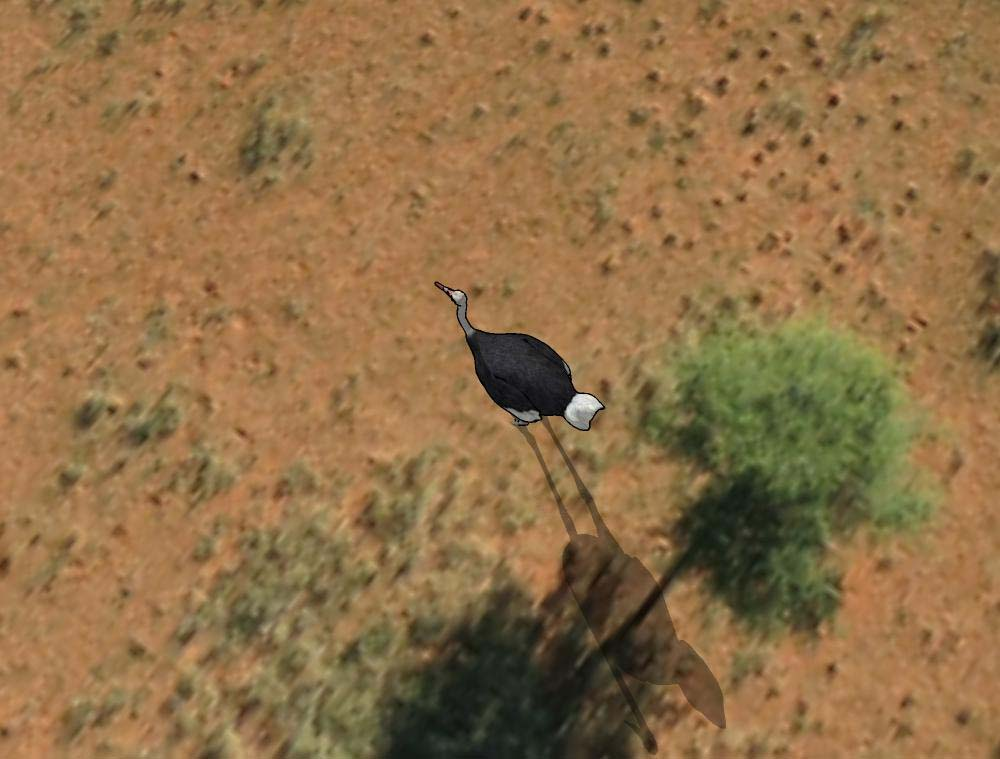springbok: (430, 273, 611, 441)
